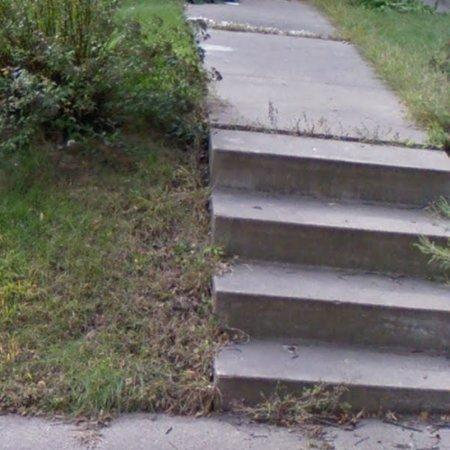stairs: (211, 131, 450, 426)
